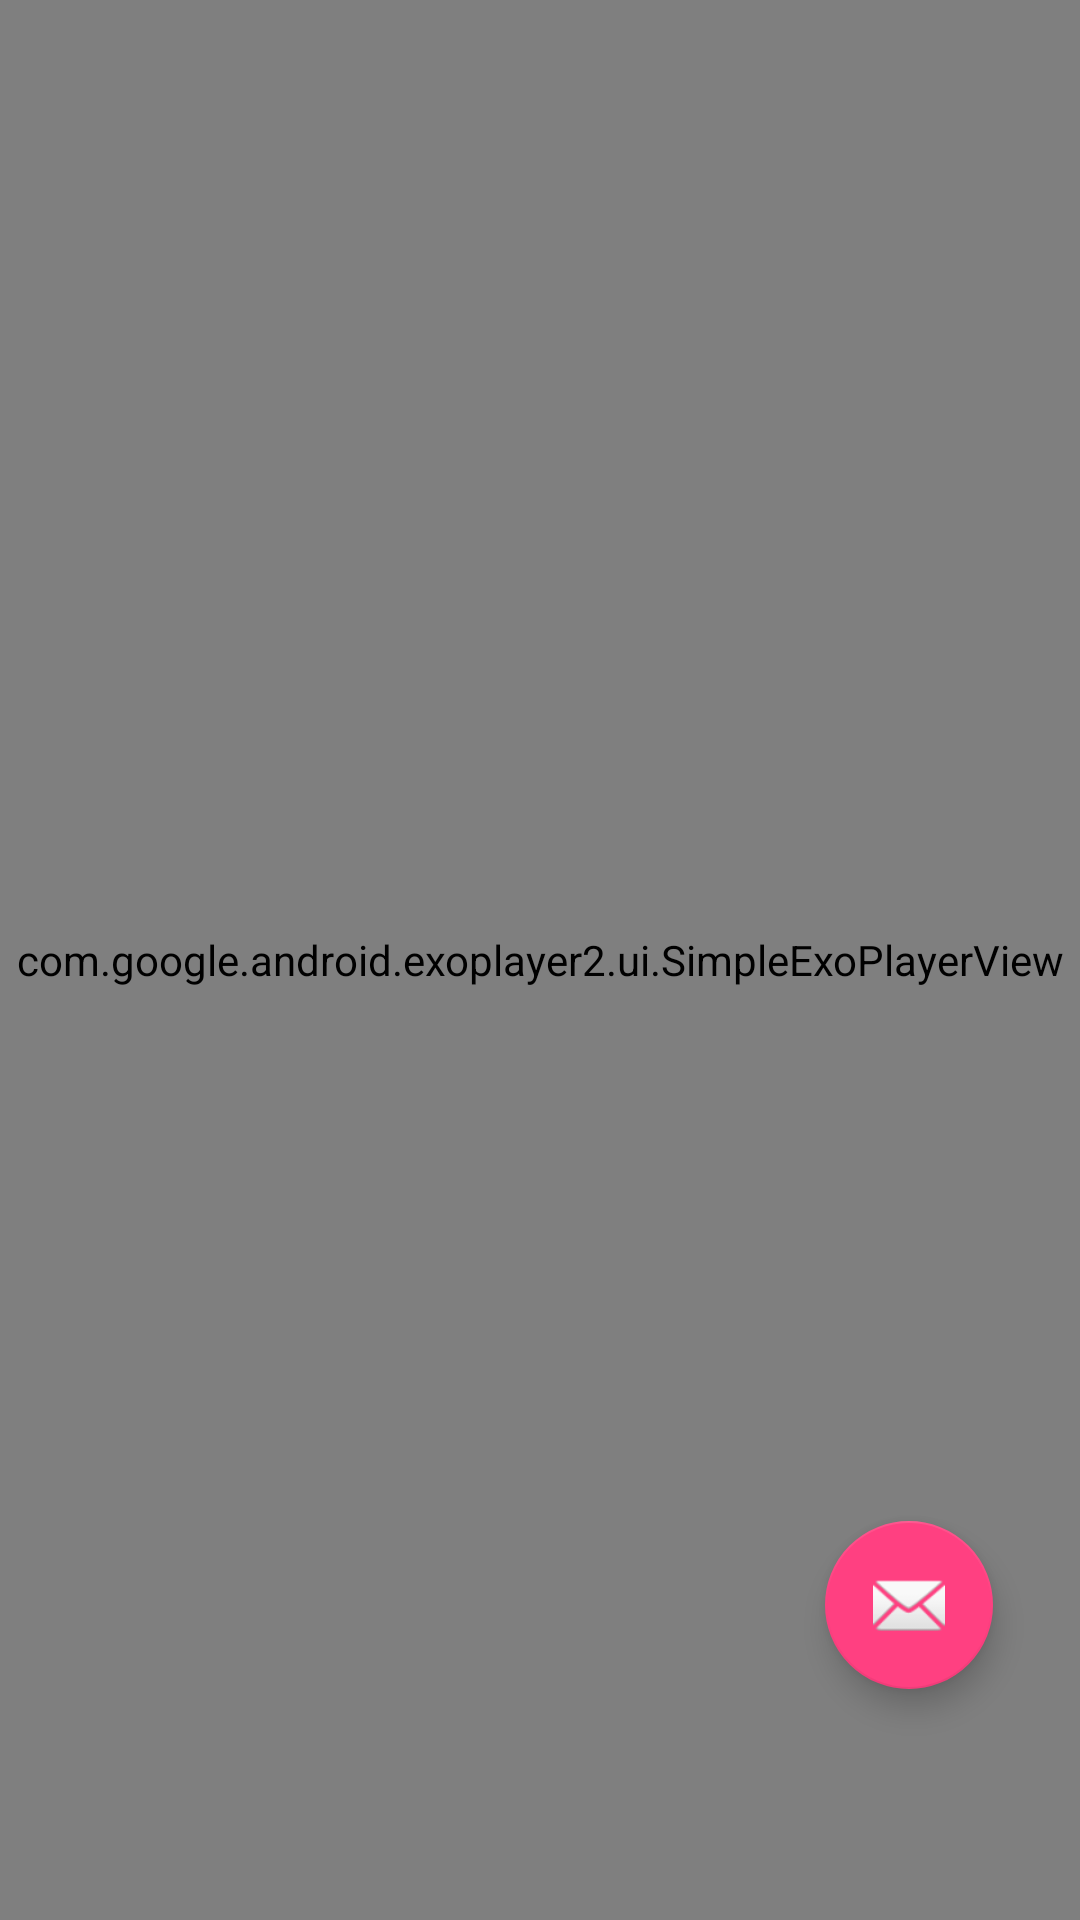

Named icons in this screenshot (1080 x 1920) and their centers, (x=x, y=y):
email: (x=909, y=1605)
